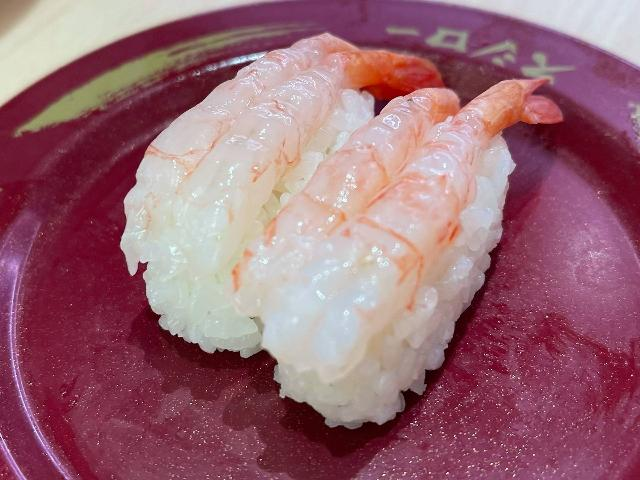janred: (22, 28, 628, 455)
